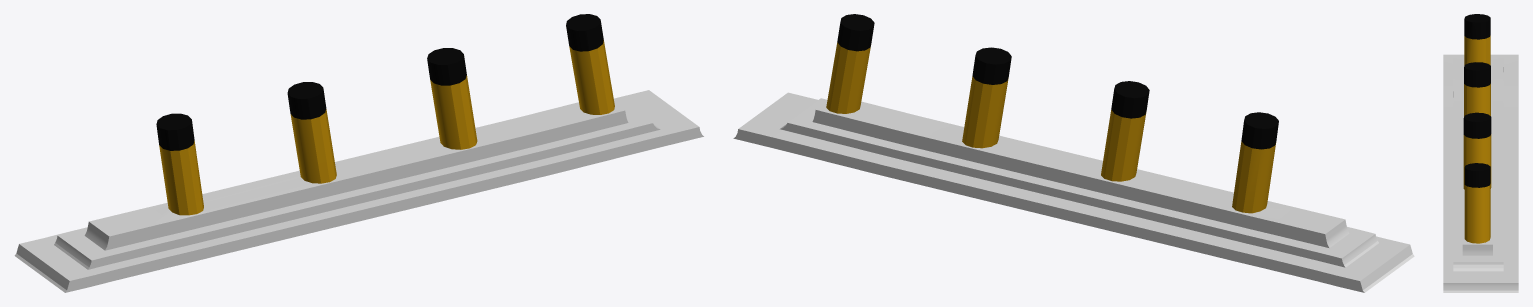
Rendered from titanicTop.fbx.
3 renders of one model, left to right at view 1: azimuth 30°, elevation 25°; view 2: azimuth 150°, elevation 25°; view 3: azimuth 270°, elevation 25°, orthographic. The views are drawn at different scales.
Visible parts, largest first — view 1: polySurface10, polySurface11, polySurface9; view 2: polySurface10, polySurface11, polySurface9; view 3: polySurface11, polySurface10, polySurface9.
Part boxes in pixels (bbox=[...]): polySurface10: bbox=[84, 14, 628, 250]; polySurface11: bbox=[14, 90, 703, 292]; polySurface9: bbox=[54, 98, 660, 269]; polySurface10: bbox=[812, 14, 1349, 248]; polySurface11: bbox=[733, 92, 1414, 292]; polySurface9: bbox=[780, 98, 1378, 267]; polySurface11: bbox=[1443, 54, 1518, 292]; polySurface10: bbox=[1462, 14, 1492, 255]; polySurface9: bbox=[1453, 58, 1503, 271].
Size of the model in its own units: 17.09 by 3.17 by 2.35.
